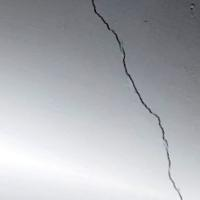crack: (89, 0, 191, 199)
